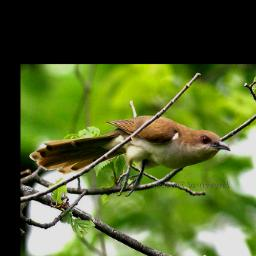Cuckoo: (28, 115, 231, 196)
